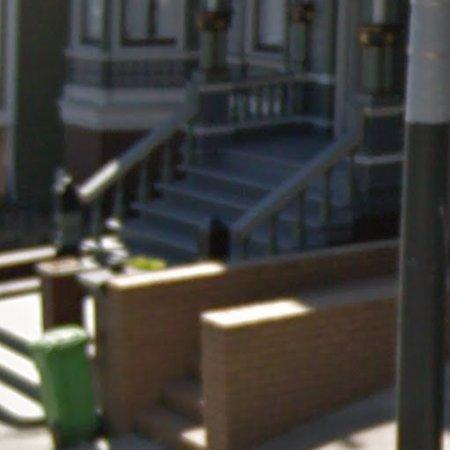stairs: (124, 126, 332, 262), (246, 157, 367, 257)
